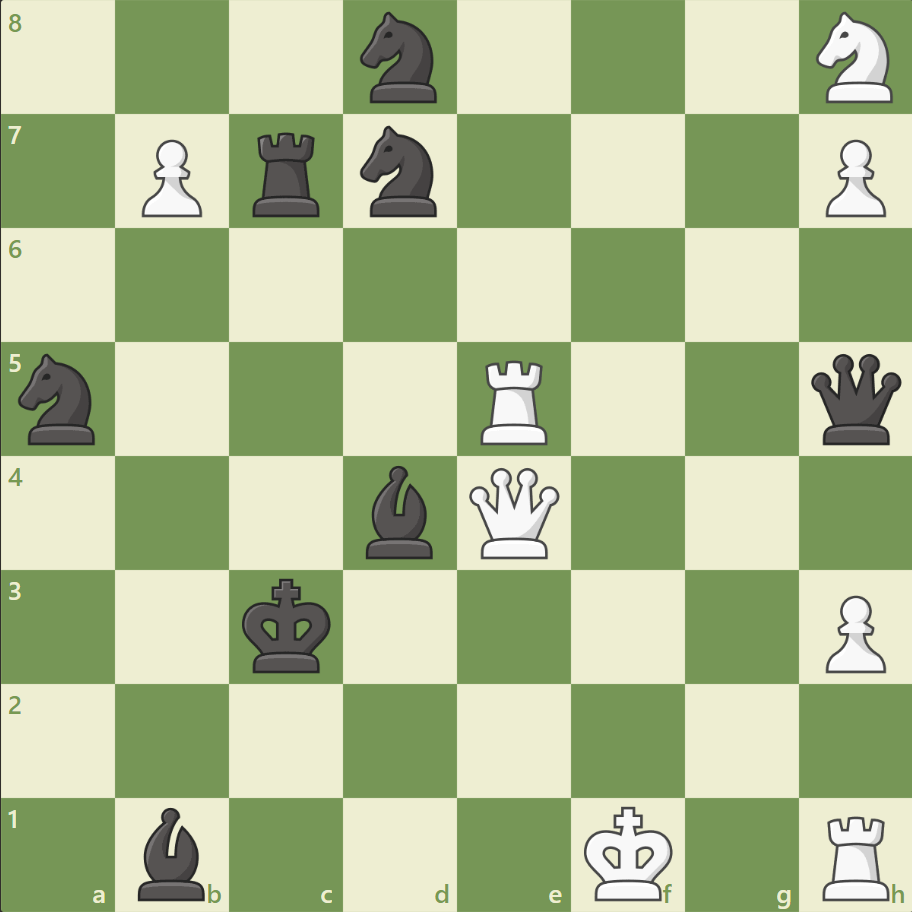K: (579, 798, 679, 906)
N: (806, 7, 903, 110)
P: (133, 132, 208, 223), (815, 132, 889, 223), (815, 586, 889, 677)
Q: (464, 463, 563, 562)
R: (814, 806, 897, 904), (473, 352, 556, 449)
b: (358, 460, 442, 563), (131, 801, 215, 904)
k: (238, 571, 338, 679)
n: (351, 7, 449, 110), (351, 121, 449, 223), (11, 348, 108, 450)
q: (805, 349, 904, 449)
r: (246, 125, 329, 222)
